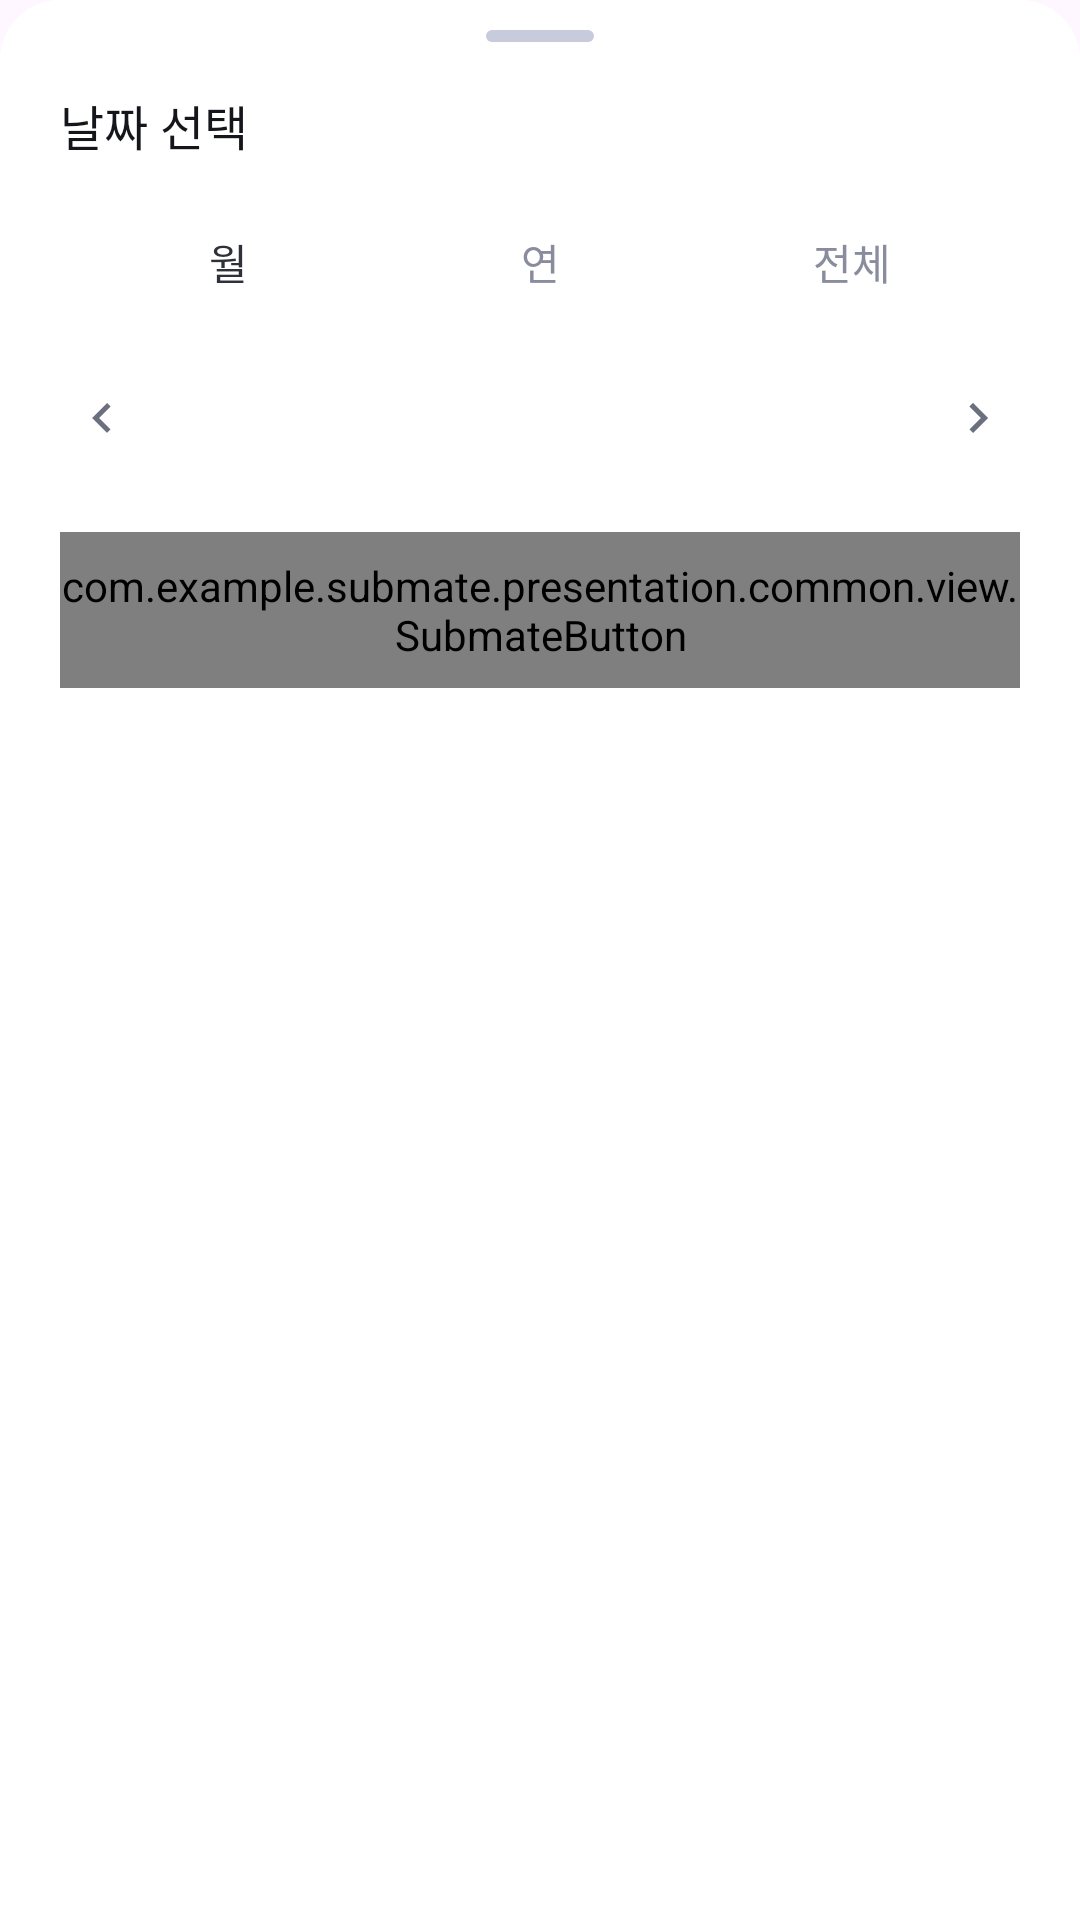

Icons on this 1080×1920 Android screen, each with the point to tap as [x,y]:
다음 연도: [978,418]
이전 연도: [101,418]
